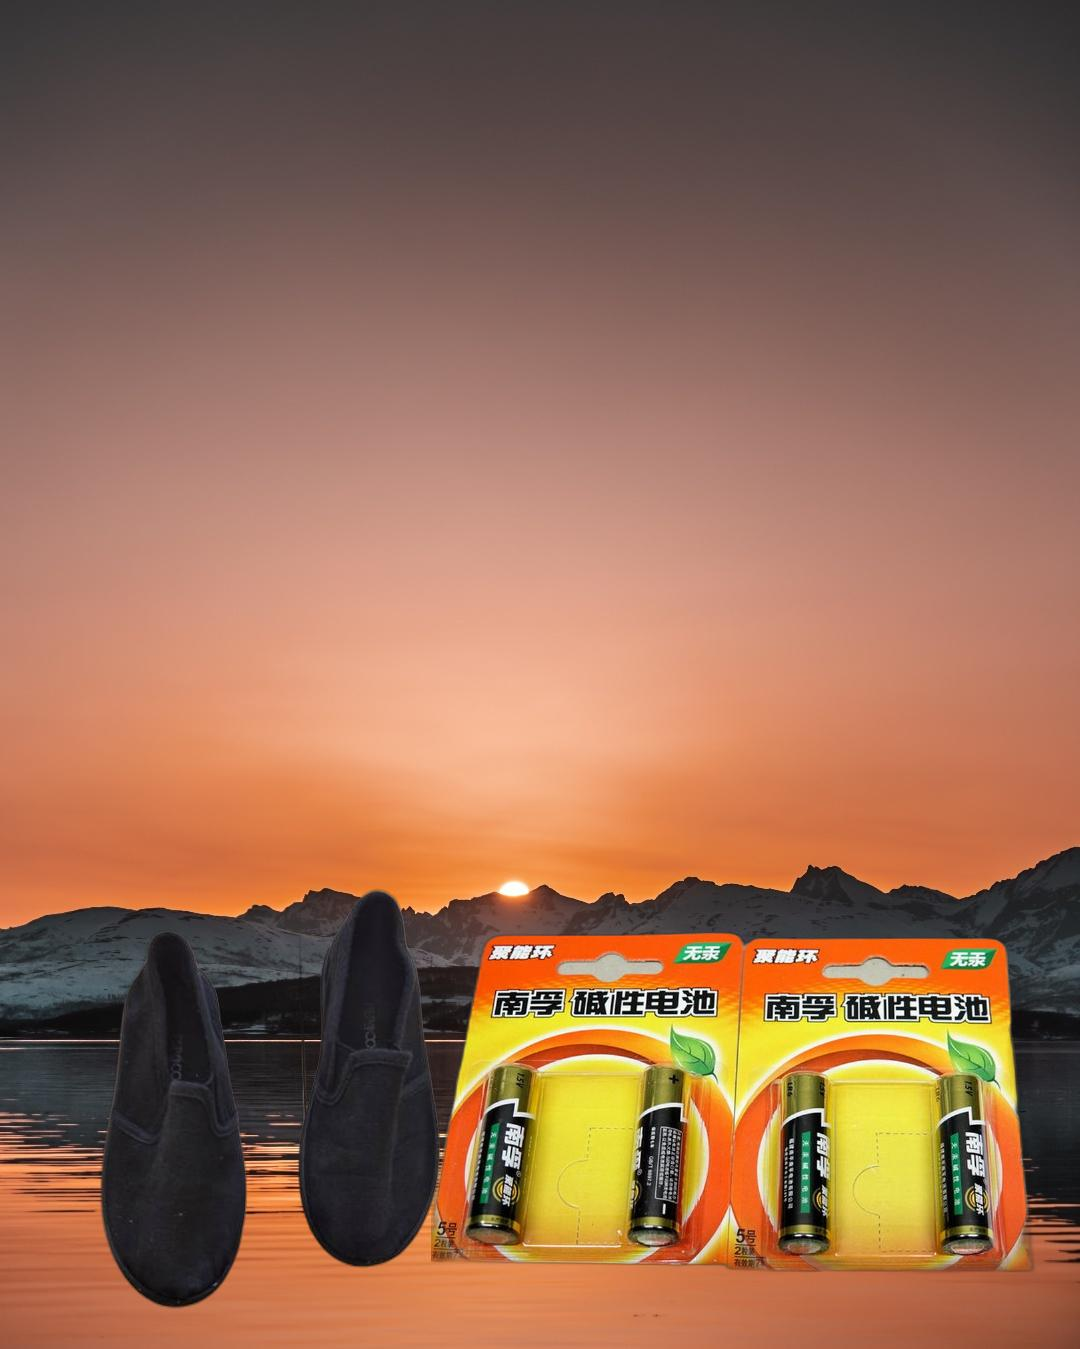battery: (431, 928, 1041, 1298)
shoes: (98, 842, 443, 1313)
